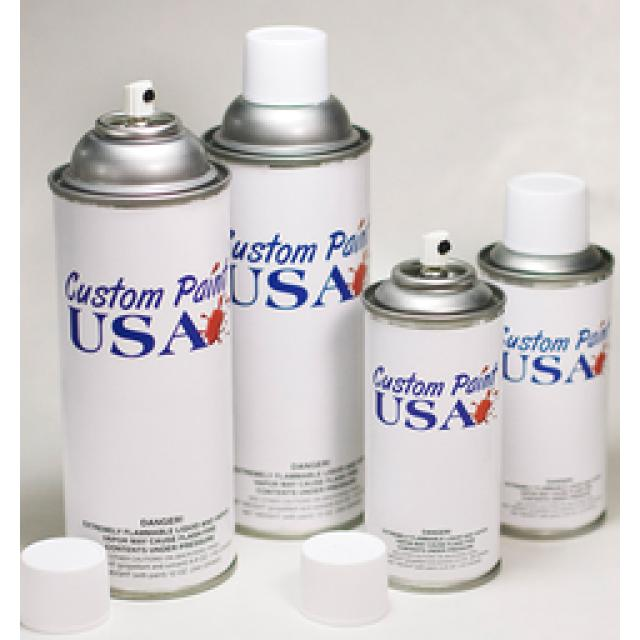zat_kimia: (46, 82, 232, 591), (211, 32, 371, 532), (365, 233, 503, 585), (478, 181, 612, 532)
